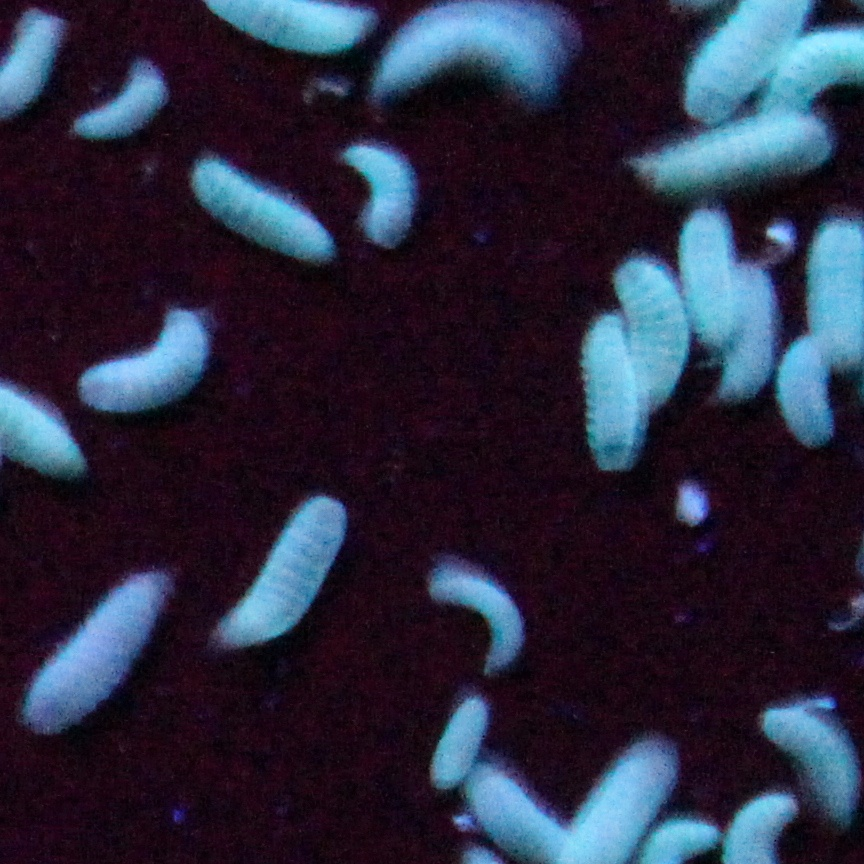larve: (20, 573, 170, 726), (217, 491, 342, 647), (383, 5, 559, 104), (194, 156, 330, 270), (636, 123, 830, 198), (615, 257, 690, 410), (88, 312, 206, 408), (761, 703, 857, 816), (801, 210, 861, 373), (432, 562, 522, 670), (578, 317, 639, 472), (475, 760, 558, 862), (344, 140, 416, 254), (675, 203, 731, 345), (777, 336, 832, 454), (77, 66, 162, 136), (727, 265, 767, 403), (431, 691, 491, 778)
